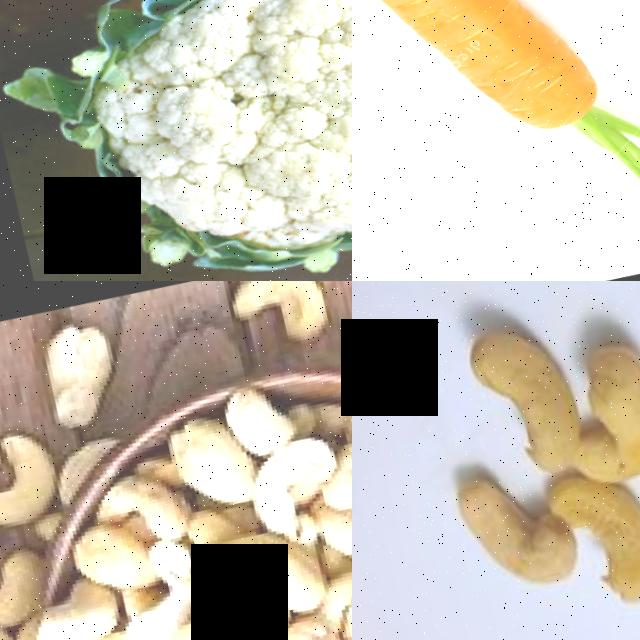carrot: (352, 0, 640, 269)
cashew: (426, 475, 590, 635), (11, 293, 175, 446), (467, 312, 591, 489), (182, 477, 317, 612), (567, 479, 640, 640), (575, 314, 640, 492), (217, 281, 352, 364), (60, 521, 166, 614), (207, 358, 303, 452), (236, 437, 327, 516), (0, 455, 64, 540), (233, 600, 310, 640), (316, 418, 352, 500), (174, 596, 239, 640)
cauliflower: (0, 0, 352, 281)
